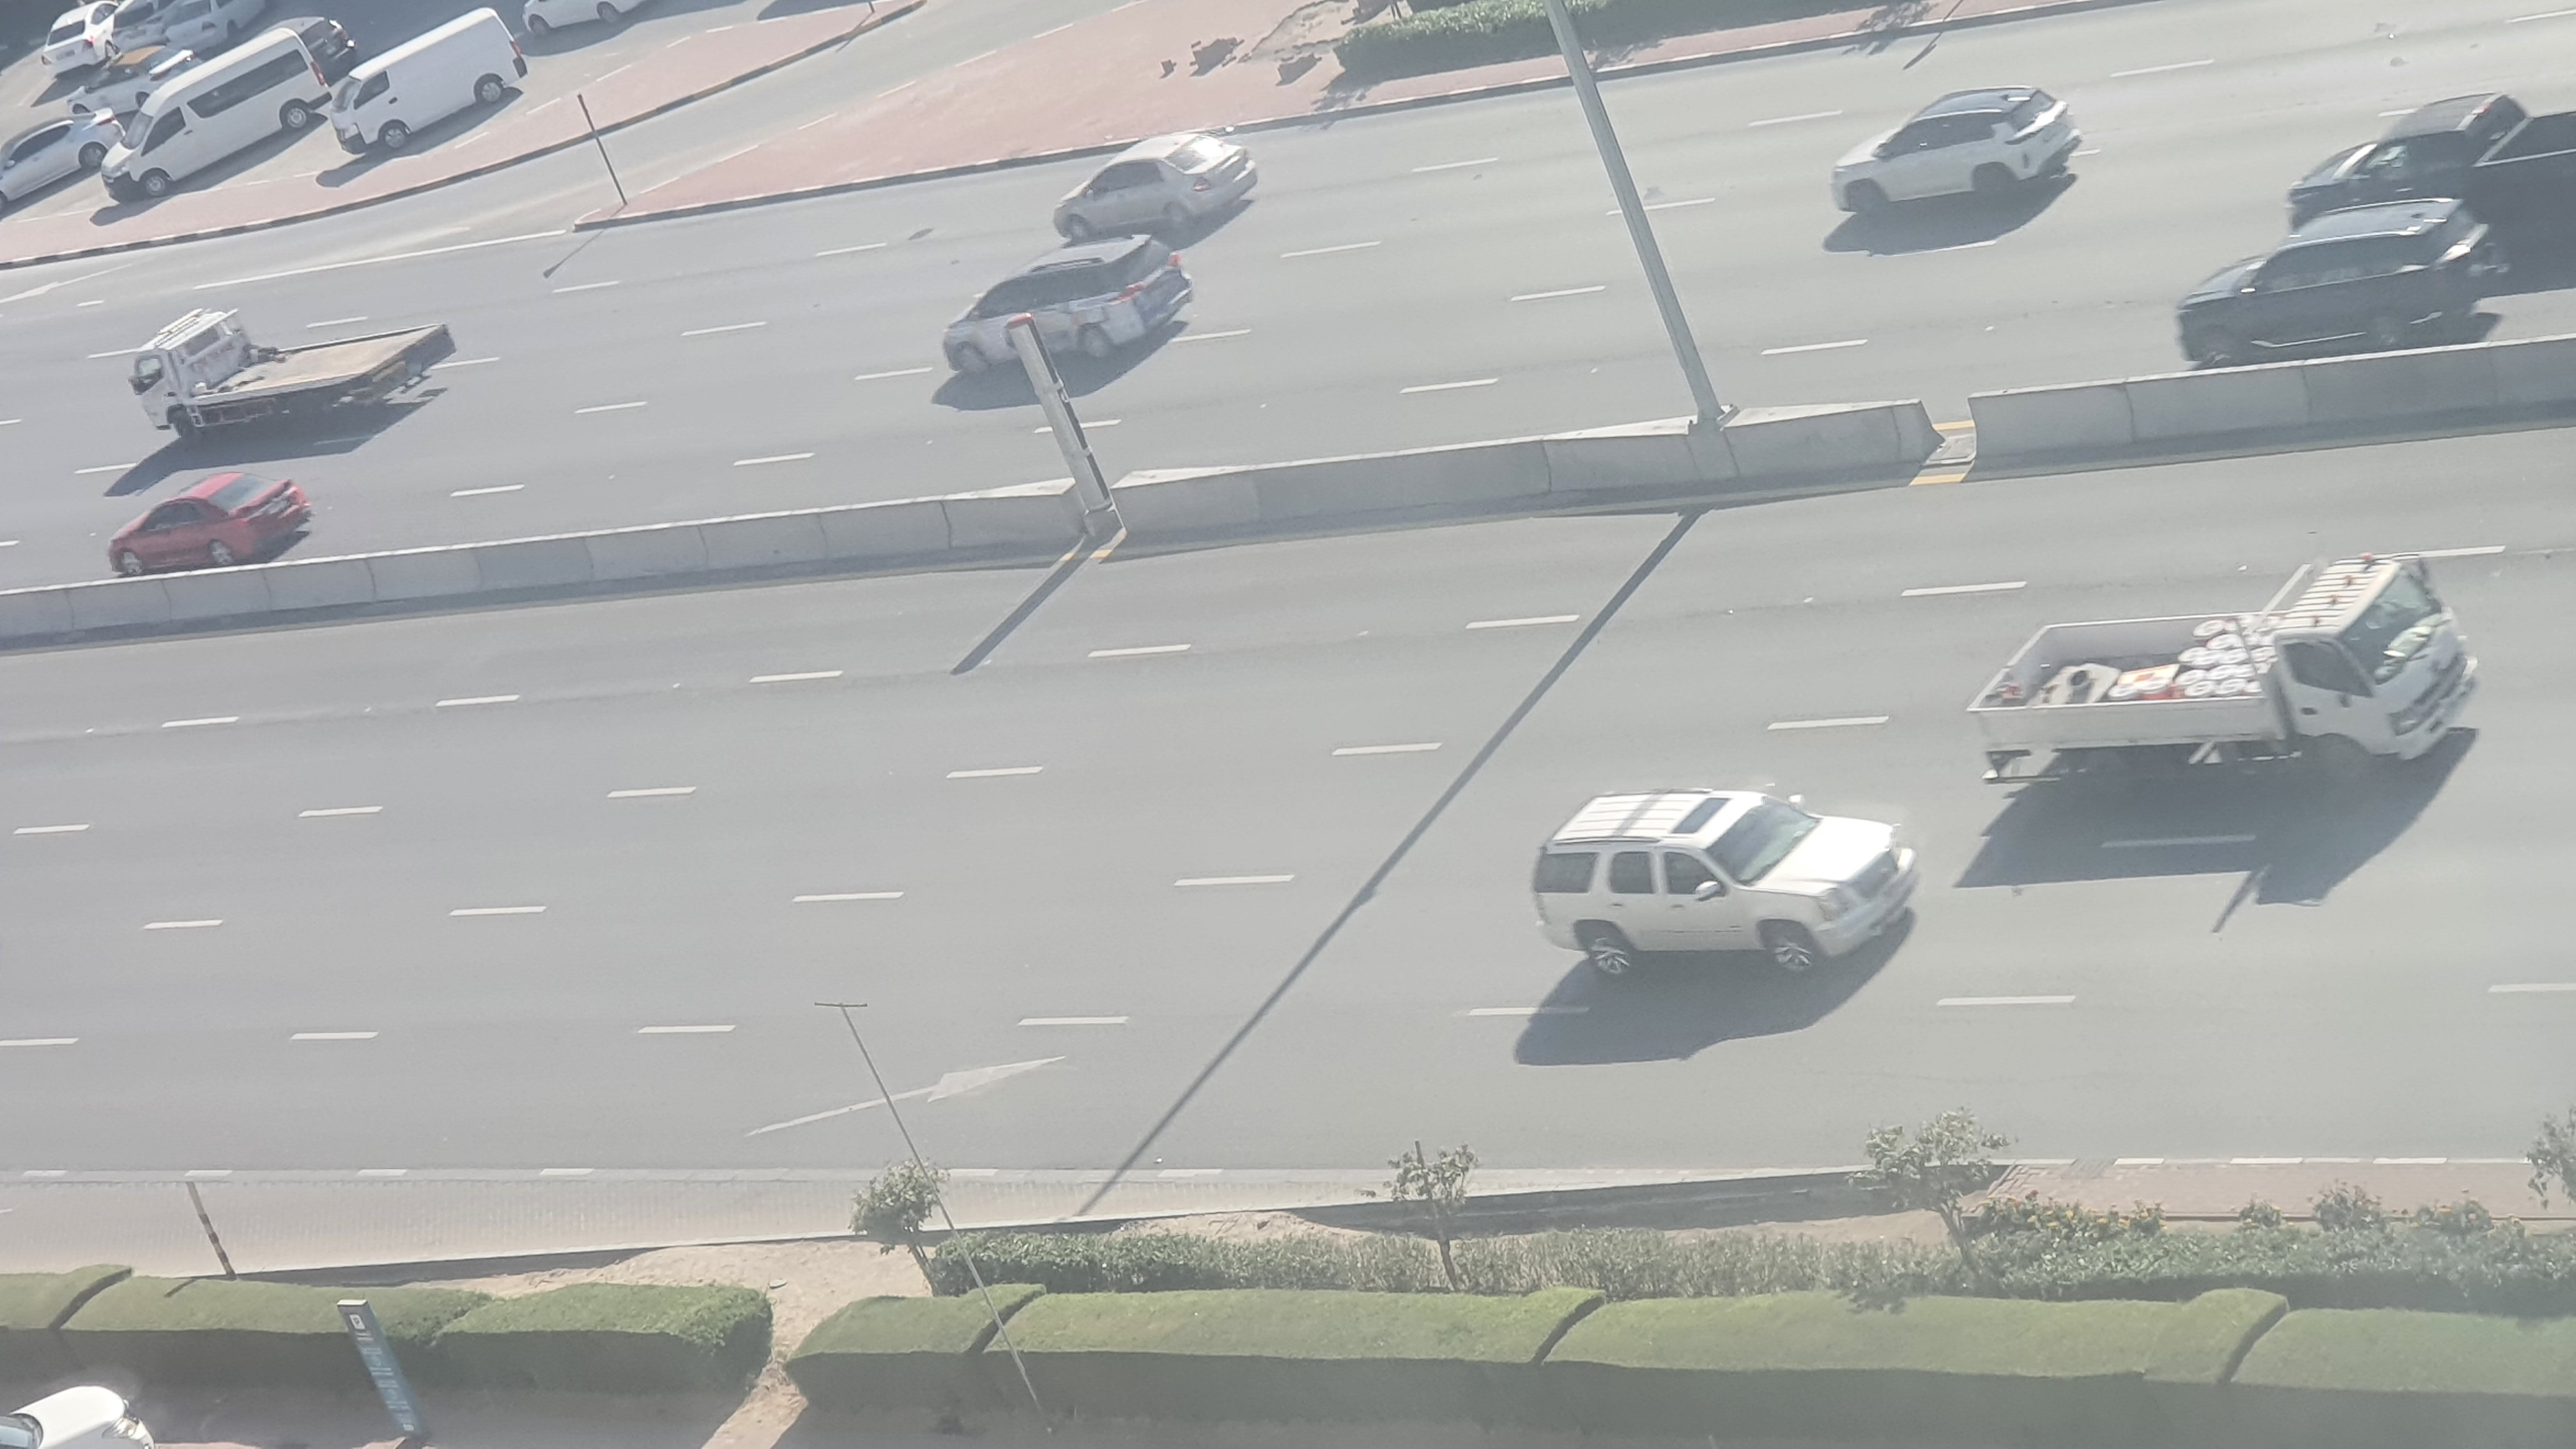Sunroof: (1522, 786, 1916, 985)
